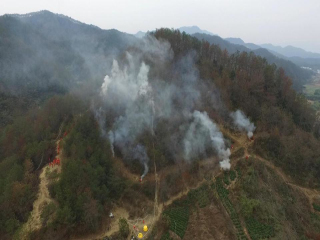smoke: (85, 35, 255, 176)
